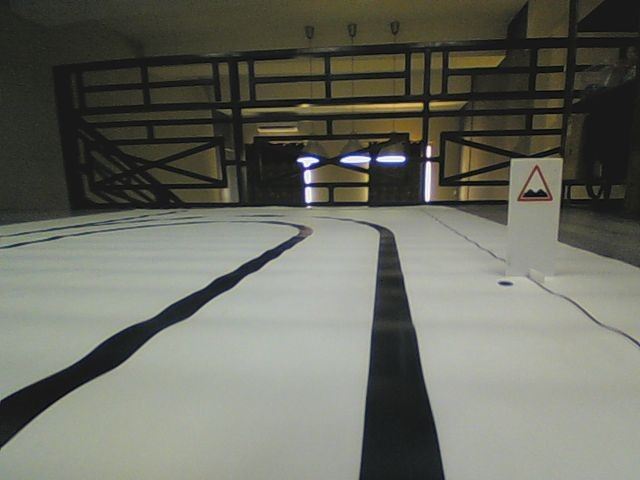Nerov: (516, 162, 553, 203)
